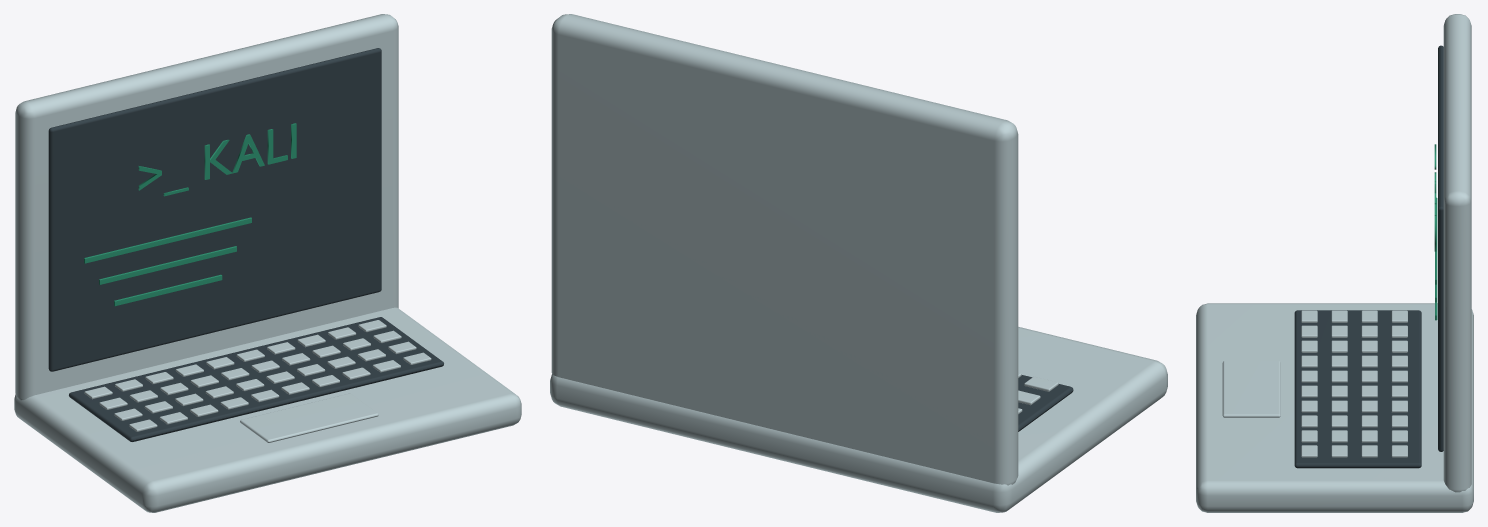
File: kali-macbook.glb
The picture shows the model from 3 angles, left to right: view 1: azimuth 30°, elevation 25°; view 2: azimuth 150°, elevation 25°; view 3: azimuth 270°, elevation 25°; orthographic projection. The views are drawn at different scales.
Visible parts, largest first — view 1: Terminal screen, Laptop base, Display lid, Keyboard, Trackpad, Label >_ KALI, Terminal line, Terminal line.001, Terminal line.002; view 2: Display lid, Laptop base, Keyboard; view 3: Laptop base, Display lid, Keyboard, Trackpad, Terminal screen.
Boxes of the visible parts, box(x1,y1,x2,y2) form: Terminal screen: box(48, 48, 381, 371); Laptop base: box(14, 307, 521, 512); Display lid: box(15, 14, 398, 400); Keyboard: box(69, 317, 443, 441); Trackpad: box(240, 393, 378, 442); Label >_ KALI: box(138, 123, 296, 196); Terminal line: box(84, 217, 251, 263); Terminal line.001: box(99, 246, 236, 284); Terminal line.002: box(114, 274, 222, 306); Display lid: box(551, 14, 1018, 485); Laptop base: box(550, 327, 1167, 512); Keyboard: box(1018, 375, 1073, 431); Laptop base: box(1196, 303, 1473, 512); Display lid: box(1443, 14, 1471, 492); Keyboard: box(1294, 310, 1421, 468); Trackpad: box(1222, 361, 1280, 417); Terminal screen: box(1438, 45, 1443, 451).
Bounding box in the file's own units: 1.9 × 1.53 × 1.2.
